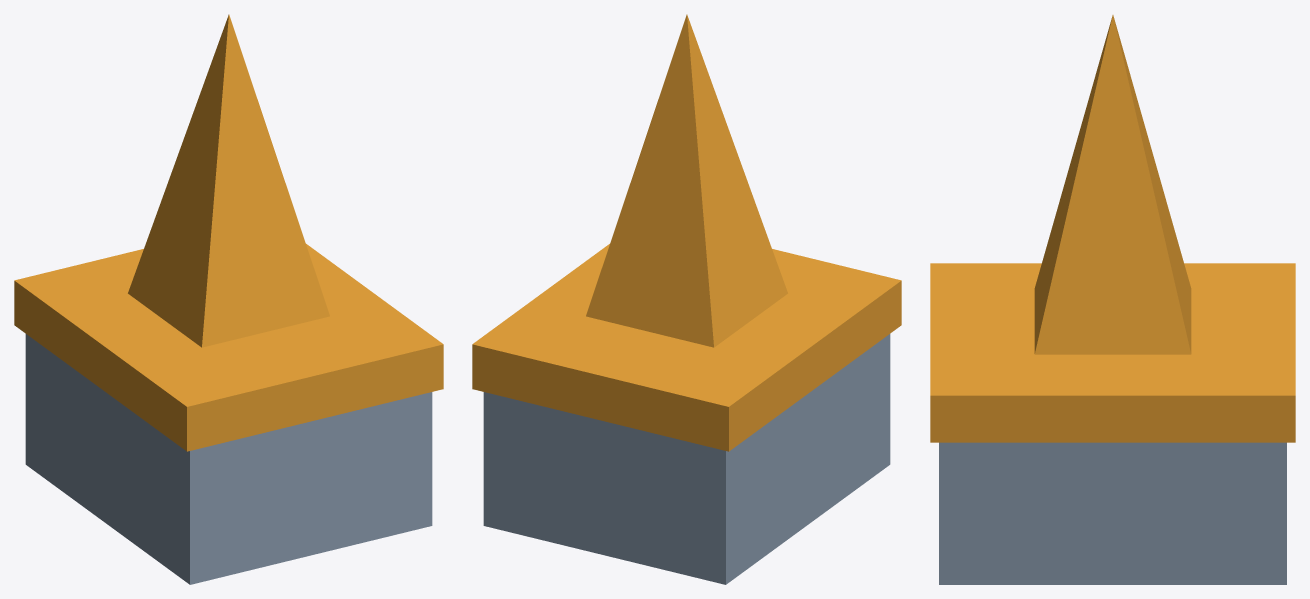
File: shoulder-3.obj
3 renders of one model, left to right at view 1: azimuth 30°, elevation 25°; view 2: azimuth 150°, elevation 25°; view 3: azimuth 270°, elevation 25°, orthographic. The views are drawn at different scales.
Bounding box in the file's own units: 0.36 × 0.645 × 0.42.
